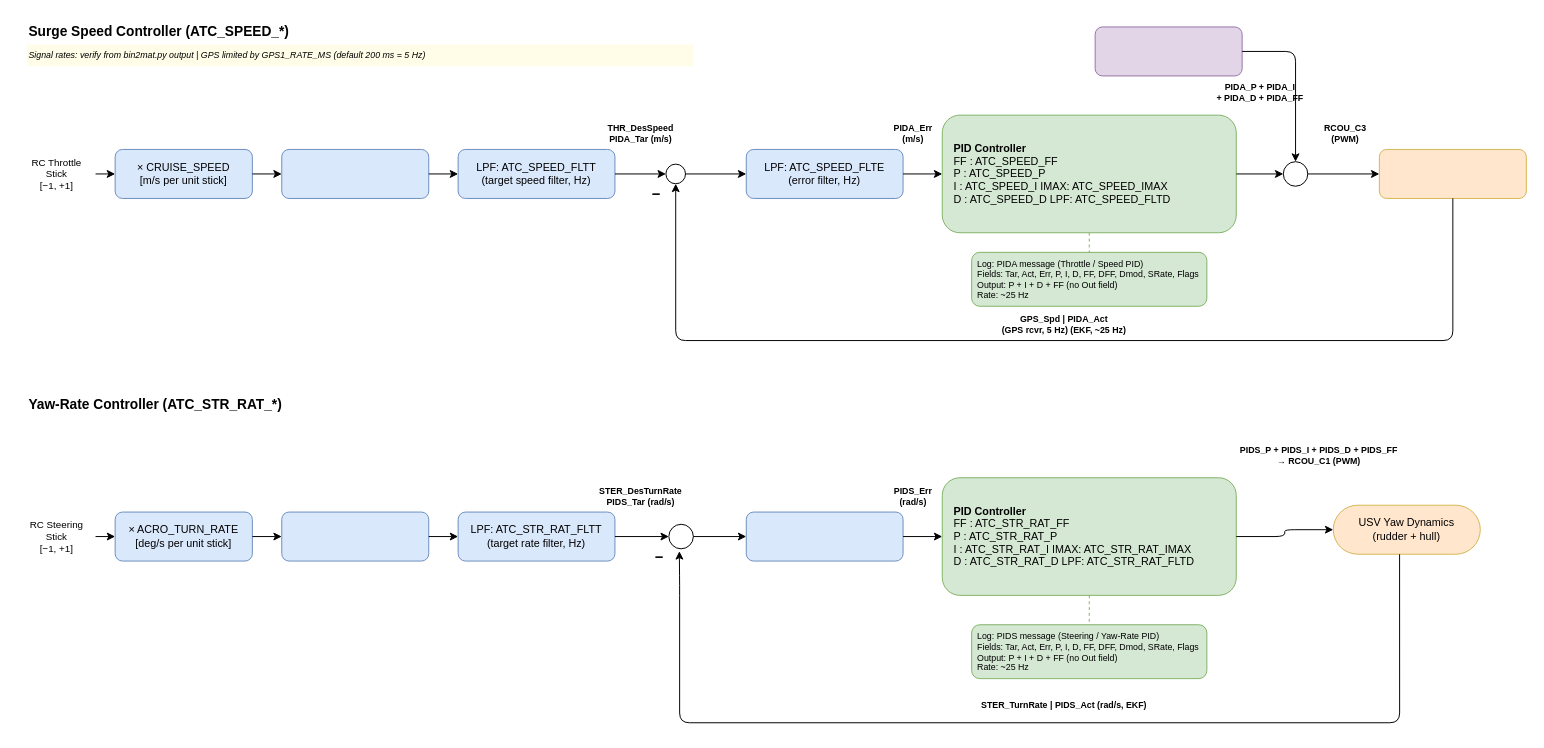
Some shapes in this 1544 by 748 pixel diagram are drawn without their labels. The centre of each missing label's shape, as x and y in pixels:
ATC_ACCEL_MAX (cmd accel limit, m/s²): point (355, 173)
ATC_STR_ACC_MAX (cmd accel limit, deg/s²): point (355, 536)
CRUISE_THROTTLE (throttle baseline FF): point (1168, 51)
LPF: ATC_STR_RAT_FLTE (error filter, Hz): point (824, 536)
USV Surge Dynamics (thruster + hull): point (1452, 173)
